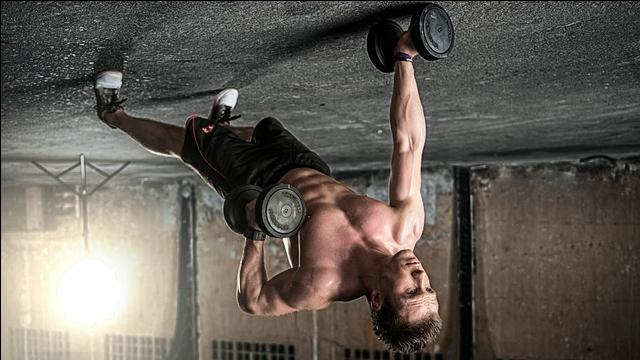Non_Gorille: (186, 5, 478, 358)
